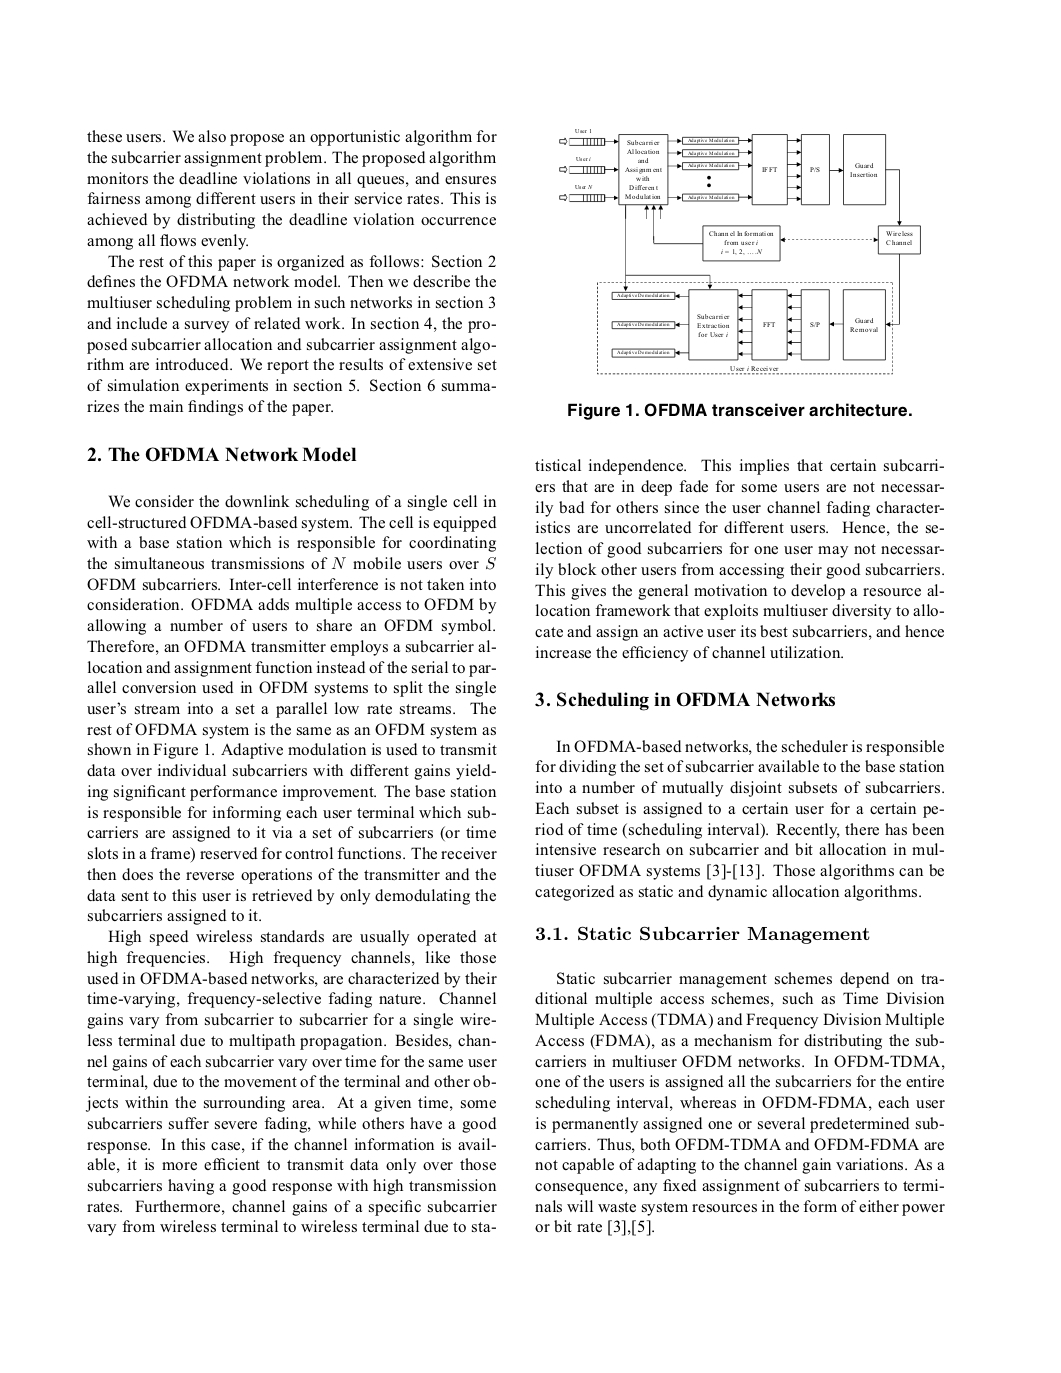figure: (559, 128, 919, 374)
